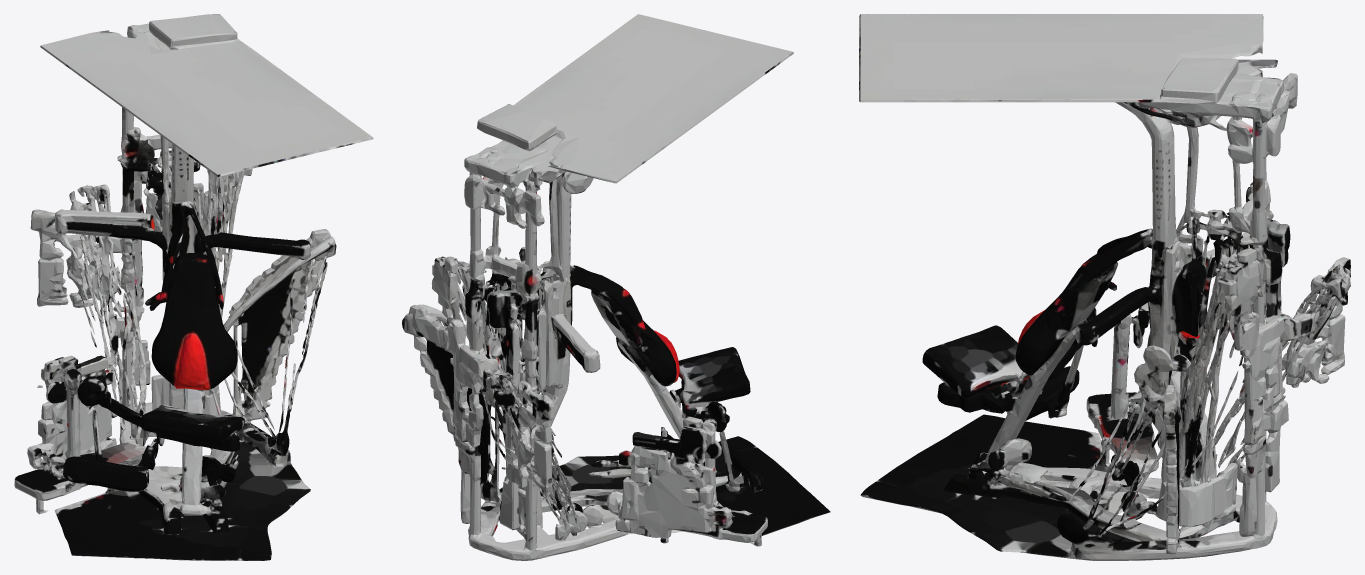
File: k1-bowflex-xtreme-2se.glb
The picture shows the model from 3 angles, left to right: view 1: azimuth 30°, elevation 25°; view 2: azimuth 150°, elevation 25°; view 3: azimuth 270°, elevation 25°; orthographic projection. The views are drawn at different scales.
Parts seen in each view (by area): view 1: demo_textured.obj; view 2: demo_textured.obj; view 3: demo_textured.obj.
Boxes of the visible parts, x1=… form: demo_textured.obj: x1=14, y1=14, x2=373, y2=560; demo_textured.obj: x1=402, y1=14, x2=830, y2=560; demo_textured.obj: x1=859, y1=14, x2=1350, y2=560.
Bounding box in the file's own units: 1.73 × 1.96 × 1.89.
1 material, 1 textured.
